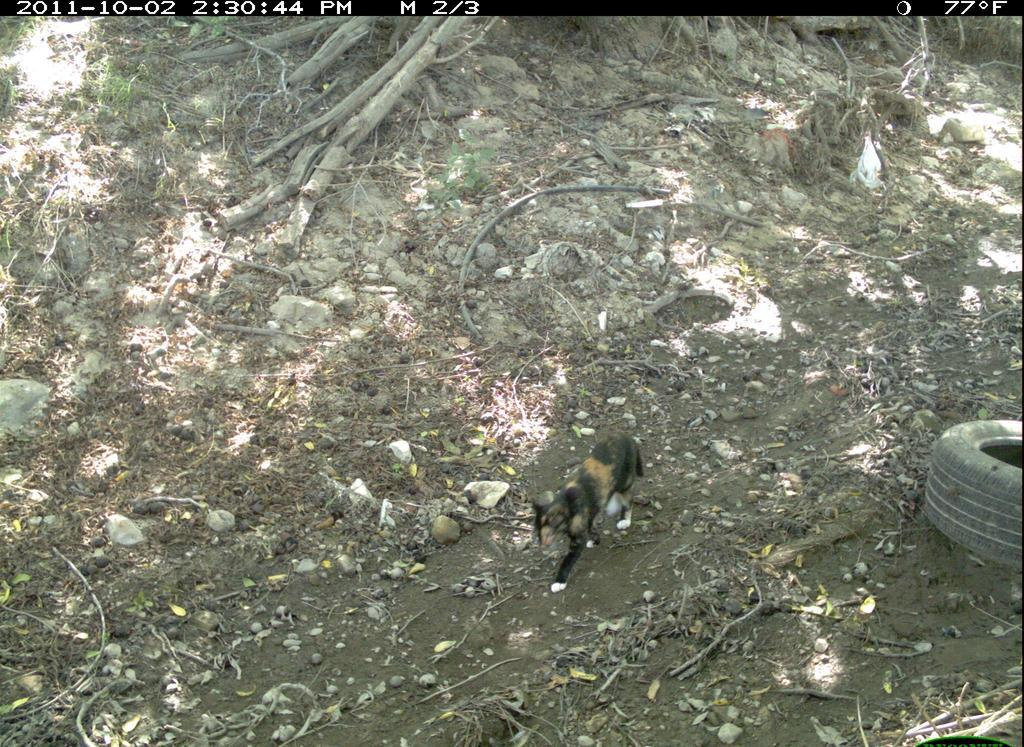cat: (527, 420, 653, 596)
